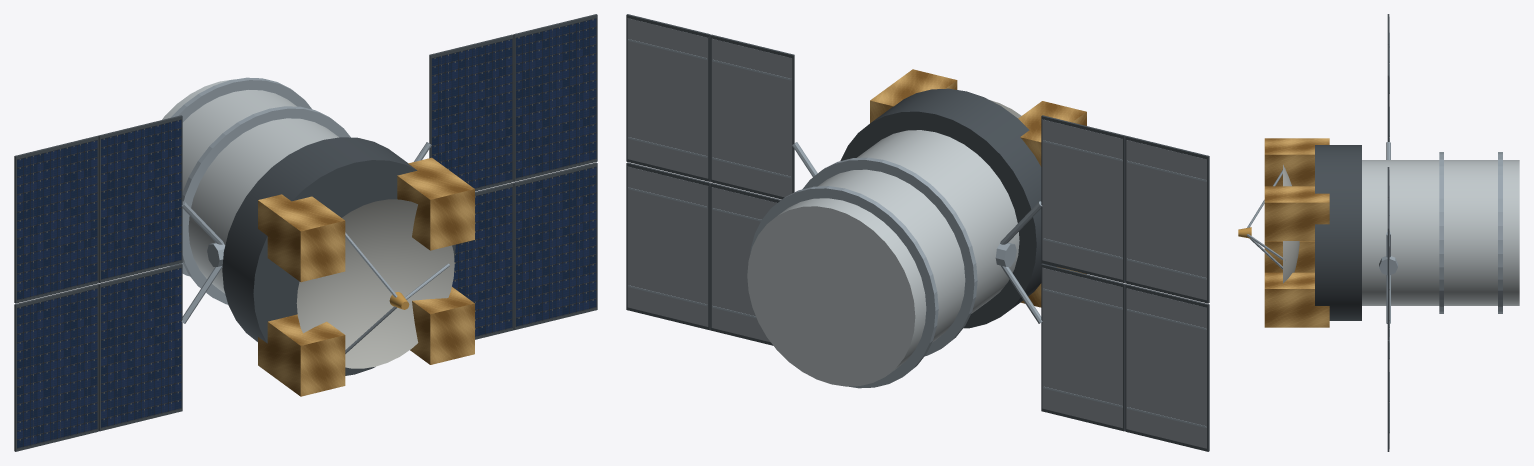
Rendered from ref-gorizont-11158.glb.
3 renders of one model, left to right at view 1: azimuth 30°, elevation 25°; view 2: azimuth 150°, elevation 25°; view 3: azimuth 270°, elevation 25°, orthographic. The views are drawn at different scales.
Visible parts, largest first — view 1: Solar cell panel (×8), Antenna platform equipment (×4), Axial communications reflector, Antenna mounting deck, Pressurized service module, Solar panel frame (×8), Body flange (×2); view 2: Rear array substrate (×8), Pressurized service module, Antenna mounting deck, Solar panel frame (×8), Body flange (×2), Antenna platform equipment (×2); view 3: Pressurized service module, Antenna platform equipment (×4), Antenna mounting deck, Body flange (×2), Solar panel frame (×3), Axial communications reflector.
Boxes of the visible parts, left/top/right/bottom form: Solar cell panel (×8): left=17, top=18, right=596, bottom=448; Antenna platform equipment (×4): left=258, top=157, right=474, bottom=396; Axial communications reflector: left=296, top=199, right=454, bottom=368; Antenna mounting deck: left=222, top=137, right=455, bottom=375; Pressurized service module: left=162, top=79, right=338, bottom=293; Solar panel frame (×8): left=14, top=14, right=597, bottom=451; Body flange (×2): left=170, top=77, right=350, bottom=304; Rear array substrate (×8): left=627, top=18, right=1206, bottom=448; Pressurized service module: left=747, top=130, right=1019, bottom=386; Antenna mounting deck: left=840, top=88, right=1056, bottom=328; Solar panel frame (×8): left=626, top=14, right=1209, bottom=451; Body flange (×2): left=750, top=157, right=977, bottom=388; Antenna platform equipment (×2): left=870, top=69, right=1086, bottom=166; Pressurized service module: left=1362, top=160, right=1519, bottom=305; Antenna platform equipment (×4): left=1264, top=138, right=1329, bottom=327; Antenna mounting deck: left=1315, top=145, right=1361, bottom=320; Body flange (×2): left=1439, top=152, right=1502, bottom=313; Solar panel frame (×3): left=1387, top=45, right=1389, bottom=451; Axial communications reflector: left=1283, top=164, right=1299, bottom=283.
Bounding box in the file's own units: 9.49 × 4.6 × 5.25.
Materials: 8 (2 with a texture image).
